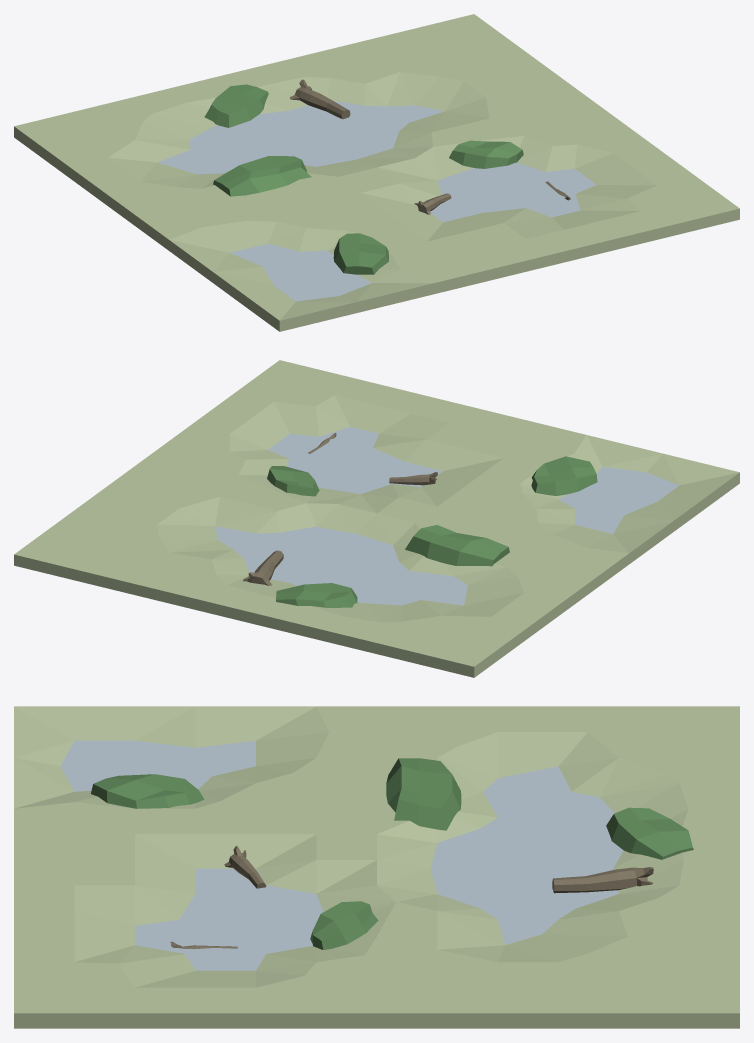
The model's file is Marshland I.fbx.
The picture shows the model from 3 angles, top to bottom: view 1: azimuth 30°, elevation 25°; view 2: azimuth 150°, elevation 25°; view 3: azimuth 270°, elevation 25°; orthographic projection. The views are drawn at different scales.
Parts seen in each view (by area): view 1: Marshland I; view 2: Marshland I; view 3: Marshland I.
Part boxes in pixels (box(x1,y1,x2,y2)): Marshland I: box(14, 14, 739, 331); Marshland I: box(14, 360, 739, 677); Marshland I: box(14, 706, 739, 1028).
Bounding box in the file's own units: 1600 × 96.7 × 1600.
